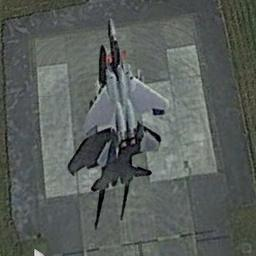Airplane: (66, 17, 170, 147)
